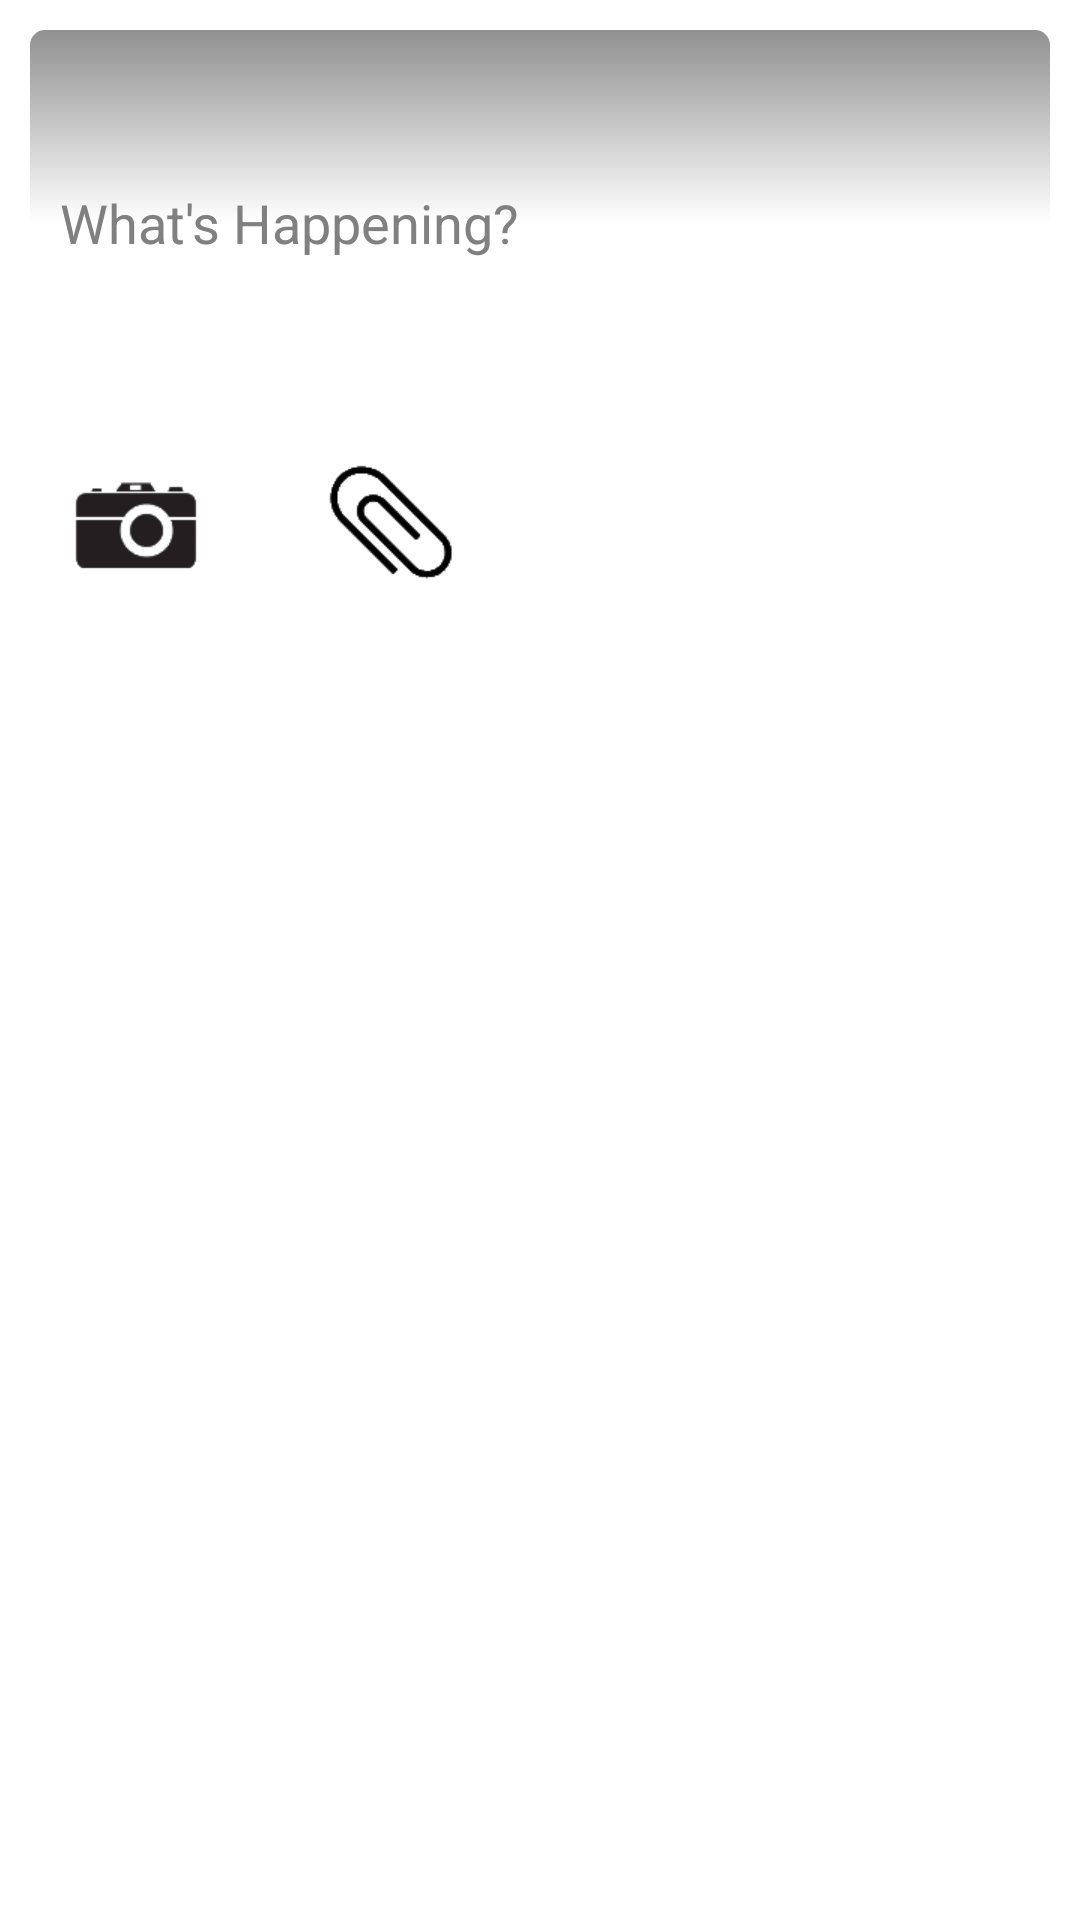

Named icons in this screenshot (1080 × 1920) and their bounding boxes, (x1, y1, x2, y2):
camera: (75, 482, 197, 569)
